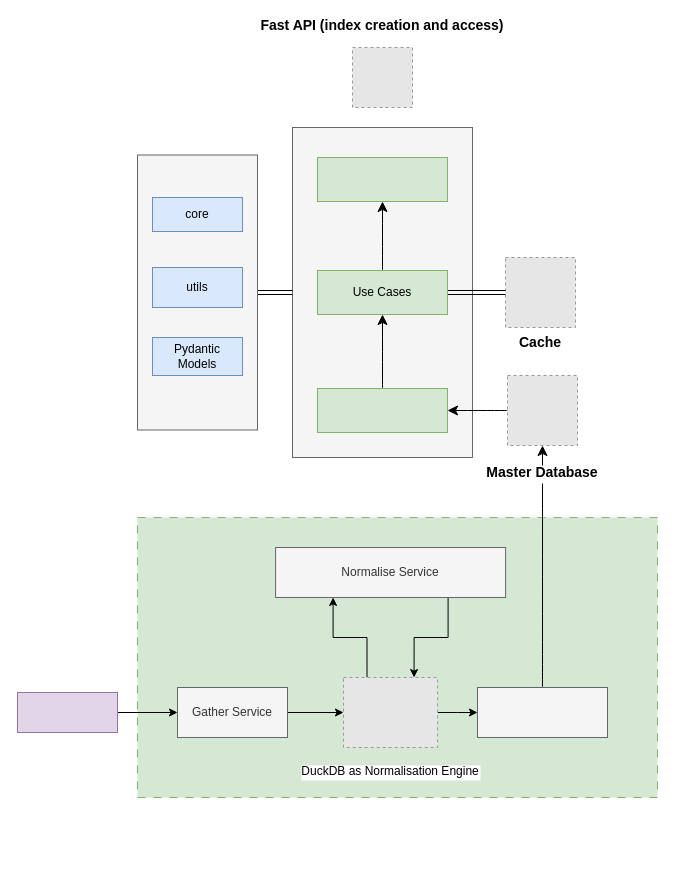
The diagram is 675 pixels wide and 872 high, and some of its shapes have lost their labels. Grey dashed boxes stand in for pictures. The shapes that lost their labels are listed below. From the top down, each one's box as (x1, y1, x2, y2) in pixels, then its label:
(316, 156, 448, 202): Controllers (api/v1)
(316, 388, 448, 432): services
(136, 516, 658, 798): Feeder
(16, 692, 118, 732): Polygon API
(476, 686, 608, 738): Upload Service
